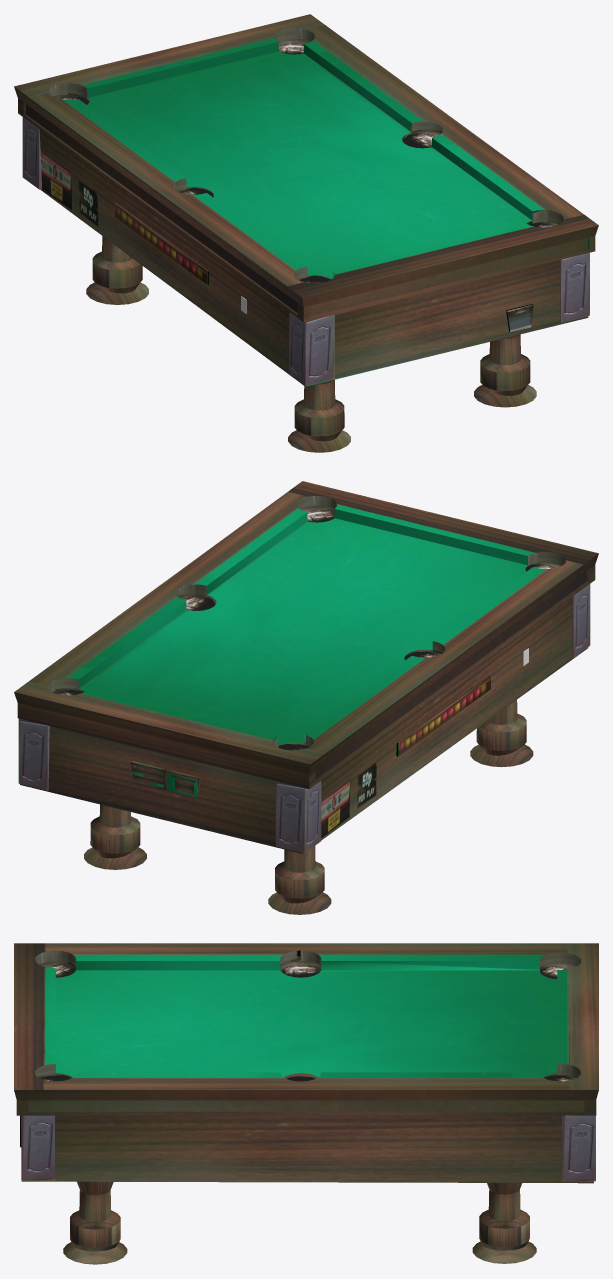
The model's file is pool_table.gltf.
3 views of the same model, one above another, from view 1: azimuth 30°, elevation 25°; view 2: azimuth 150°, elevation 25°; view 3: azimuth 270°, elevation 25° (orthographic).
Parts seen in each view (by area): view 1: Box001_Material #6_0, Cylinder009_Material #7_0, Cylinder008_Material #7_0, Box002_Material #5_0, Cylinder006_Material #7_0, Box009_Material #5_0, Box004_Material #4_0, Box007_Material #5_0, Cylinder014_Material #9_0, Cylinder013_Material #9_0, Cylinder015_Material #9_0, Box006_Material #3_0; view 2: Box001_Material #6_0, Cylinder006_Material #7_0, Box007_Material #5_0, Cylinder007_Material #7_0, Cylinder008_Material #7_0, Box008_Material #5_0, Box004_Material #4_0, Box005_Material #2_0, Box002_Material #5_0, Cylinder011_Material #9_0, Cylinder013_Material #9_0, Cylinder010_Material #9_0; view 3: Box001_Material #6_0, Cylinder009_Material #7_0, Cylinder007_Material #7_0, Box008_Material #5_0, Box009_Material #5_0, Cylinder012_Material #9_0, Cylinder010_Material #9_0, Cylinder015_Material #9_0.
Part boxes in pixels (x1=…): Box001_Material #6_0: x1=14, y1=14, x2=598, y2=386; Cylinder009_Material #7_0: x1=474, y1=334, x2=536, y2=407; Cylinder008_Material #7_0: x1=288, y1=380, x2=350, y2=452; Box002_Material #5_0: x1=289, y1=312, x2=334, y2=385; Cylinder006_Material #7_0: x1=86, y1=236, x2=148, y2=304; Box009_Material #5_0: x1=560, y1=252, x2=589, y2=322; Box004_Material #4_0: x1=115, y1=203, x2=208, y2=284; Box007_Material #5_0: x1=22, y1=117, x2=41, y2=189; Cylinder014_Material #9_0: x1=274, y1=28, x2=314, y2=54; Cylinder013_Material #9_0: x1=402, y1=121, x2=442, y2=148; Cylinder015_Material #9_0: x1=49, y1=83, x2=89, y2=104; Box006_Material #3_0: x1=506, y1=304, x2=533, y2=332; Box001_Material #6_0: x1=14, y1=481, x2=598, y2=853; Cylinder006_Material #7_0: x1=268, y1=846, x2=331, y2=914; Box007_Material #5_0: x1=275, y1=781, x2=321, y2=853; Cylinder007_Material #7_0: x1=84, y1=804, x2=146, y2=869; Cylinder008_Material #7_0: x1=470, y1=700, x2=533, y2=767; Box008_Material #5_0: x1=18, y1=718, x2=49, y2=790; Box004_Material #4_0: x1=396, y1=675, x2=491, y2=756; Box005_Material #2_0: x1=131, y1=761, x2=200, y2=797; Box002_Material #5_0: x1=572, y1=584, x2=590, y2=657; Cylinder011_Material #9_0: x1=296, y1=496, x2=336, y2=522; Cylinder013_Material #9_0: x1=175, y1=584, x2=215, y2=610; Cylinder010_Material #9_0: x1=525, y1=551, x2=565, y2=571; Box001_Material #6_0: x1=14, y1=943, x2=598, y2=1183; Cylinder009_Material #7_0: x1=63, y1=1181, x2=127, y2=1264; Cylinder007_Material #7_0: x1=472, y1=1183, x2=536, y2=1263; Box008_Material #5_0: x1=562, y1=1115, x2=595, y2=1181; Box009_Material #5_0: x1=21, y1=1115, x2=54, y2=1180; Cylinder012_Material #9_0: x1=280, y1=950, x2=321, y2=977; Cylinder010_Material #9_0: x1=35, y1=950, x2=75, y2=978; Cylinder015_Material #9_0: x1=540, y1=952, x2=580, y2=978.
Bounding box in the file's own units: 52.5 × 31.32 × 88.5.
8 materials, 7 textured.
